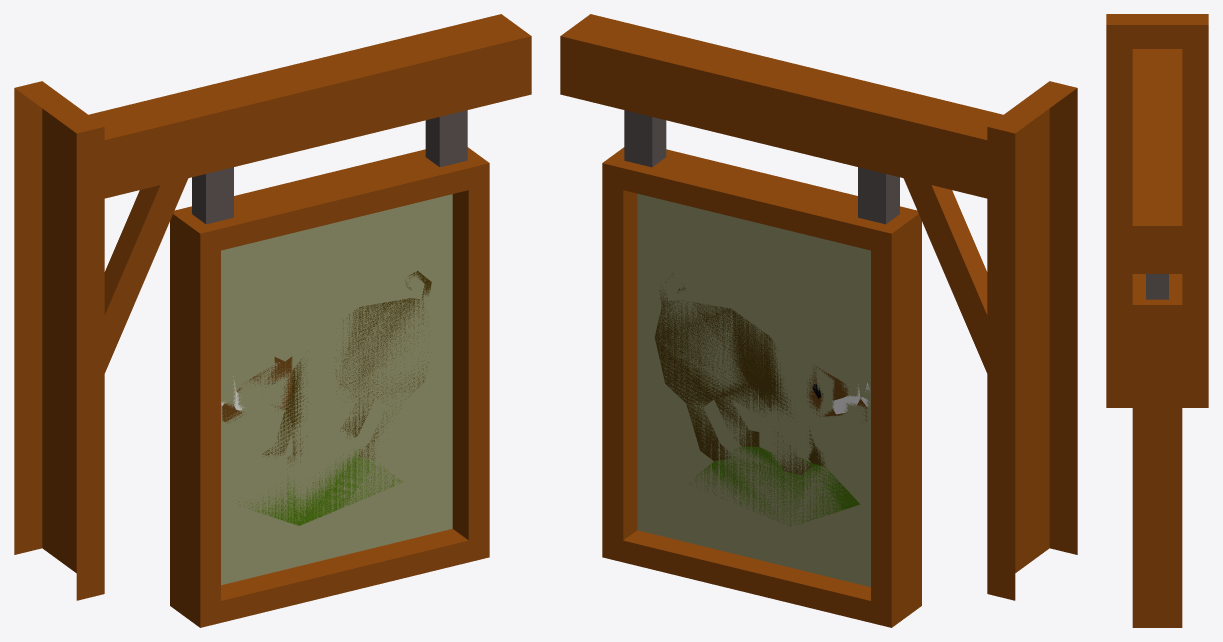
File: model_loc_1042_q.obj
The picture shows the model from 3 angles, left to right: view 1: azimuth 30°, elevation 25°; view 2: azimuth 150°, elevation 25°; view 3: azimuth 270°, elevation 25°; orthographic projection. The views are drawn at different scales.
Visible parts, largest first — view 1: 1916; view 2: 1916; view 3: 1916.
Part boxes in pixels (x1,y1,x2,y2): 1916: (14, 14, 531, 627); 1916: (560, 14, 1077, 627); 1916: (1106, 14, 1208, 627).
Bounding box in the file's own units: 135 × 148 × 31.
